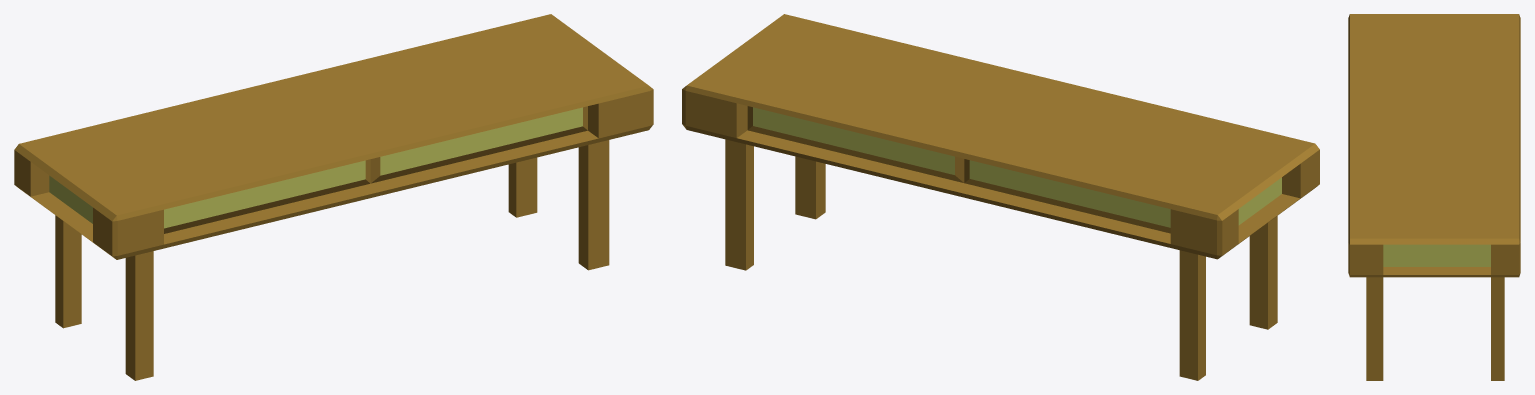
Rendered from TVSet.fbx.
3 renders of one model, left to right at view 1: azimuth 30°, elevation 25°; view 2: azimuth 150°, elevation 25°; view 3: azimuth 270°, elevation 25°, orthographic. The views are drawn at different scales.
Visible parts, largest first — view 1: TVSet; view 2: TVSet; view 3: TVSet.
Part boxes in pixels (bbox=[...]): TVSet: bbox=[14, 14, 653, 380]; TVSet: bbox=[682, 14, 1319, 380]; TVSet: bbox=[1348, 14, 1520, 380].
Size of the model in its own units: 1.17 by 0.3713 by 0.3689.
